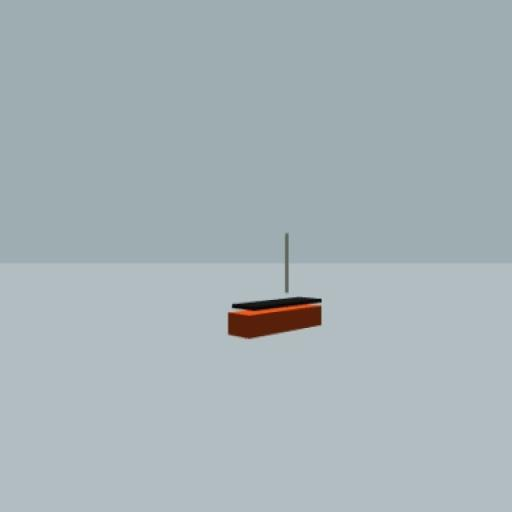vessel: (227, 233, 323, 339)
